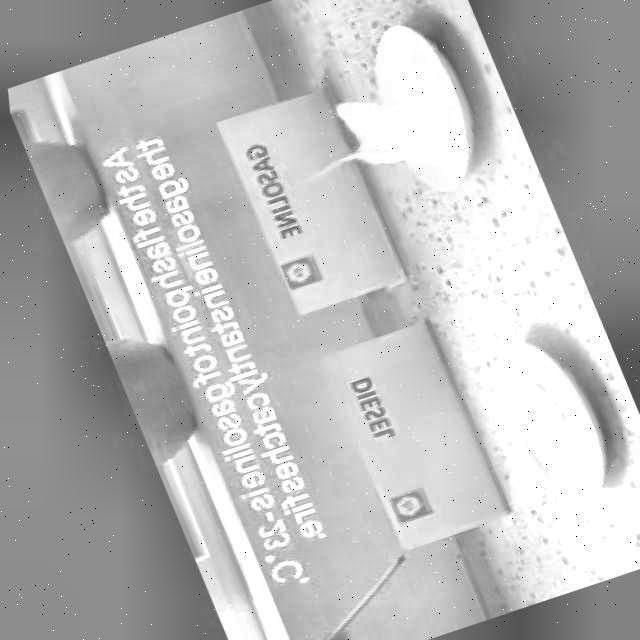Fire: (281, 63, 466, 203)
